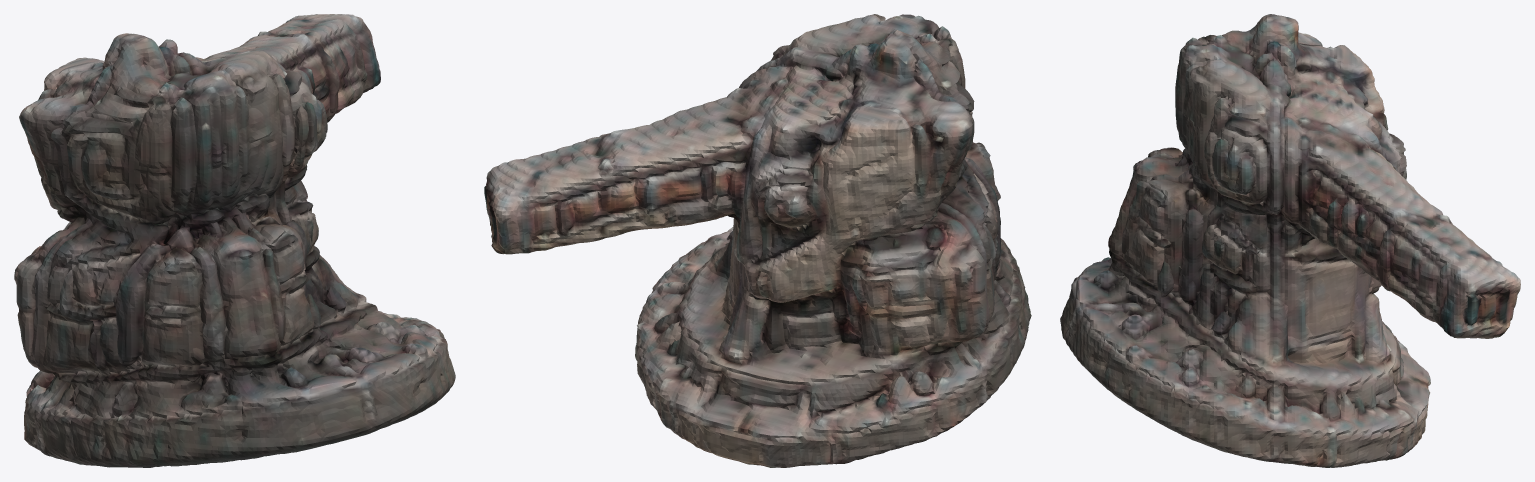
File: hq-turret.glb
The picture shows the model from 3 angles, left to right: view 1: azimuth 30°, elevation 25°; view 2: azimuth 150°, elevation 25°; view 3: azimuth 270°, elevation 25°; orthographic projection. The views are drawn at different scales.
Parts seen in each view (by area): view 1: world; view 2: world; view 3: world.
Boxes of the visible parts, <box> form: world: <box>14,14,455,467</box>; world: <box>484,14,1031,467</box>; world: <box>1060,14,1520,467</box>.
Size of the model in its own units: 0.8642 by 0.7955 by 0.8901.
